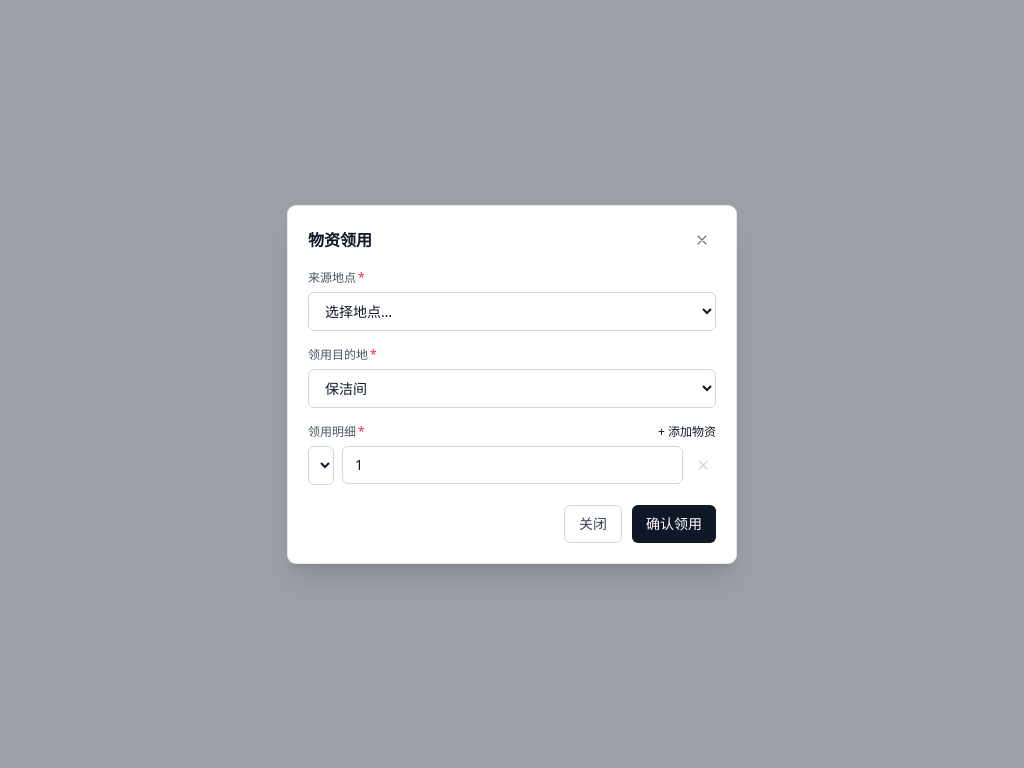
Test: IssueForm 领用表单（Sprint 7 §11/§12/§54） › ROOM 目的地必须选房间（422 由后端最终裁决）
Select "总仓" in the dropdown named "领用来源地点": (512, 311) [308, 292, 716, 330]
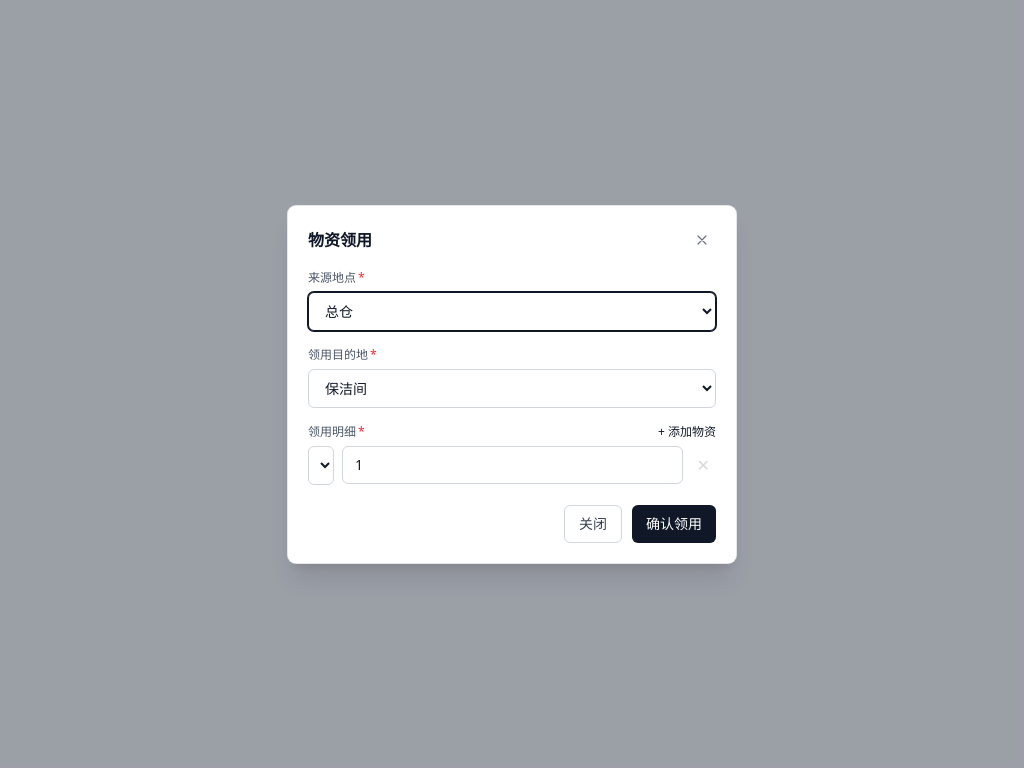
Select "房间" in the dropdown named "领用目的地": (512, 388) [308, 368, 716, 408]
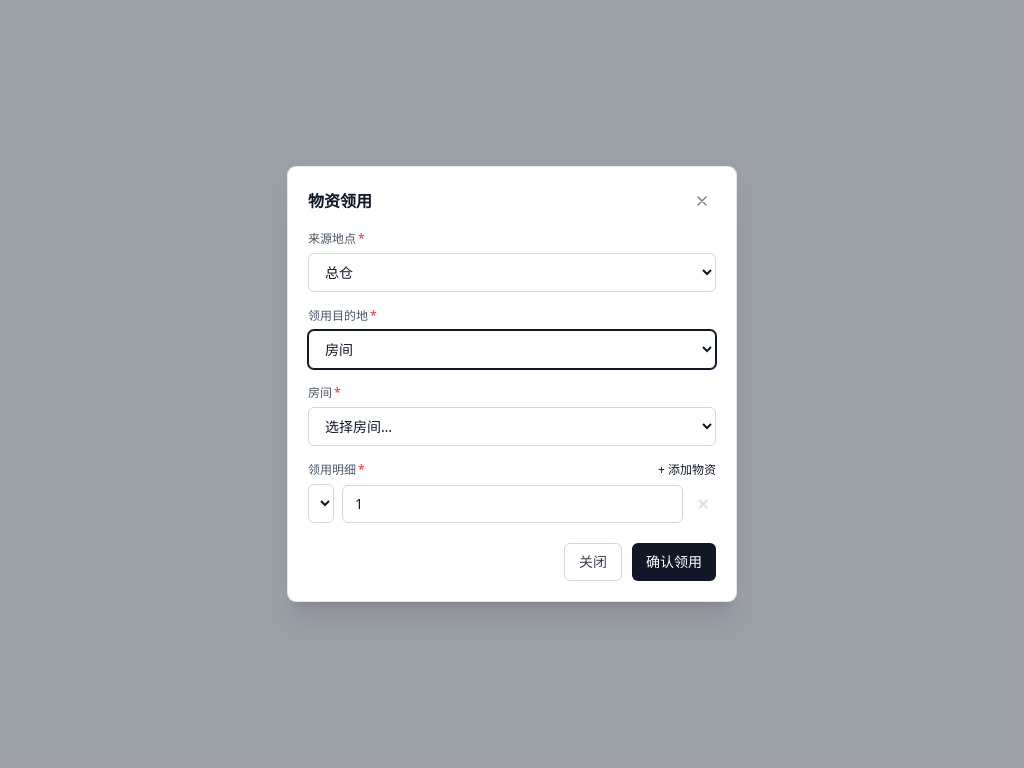
Select "AMEN-WATER-500 · 矿泉水（现 10瓶）" in the dropdown named "领用物资": (321, 504) [308, 484, 334, 523]
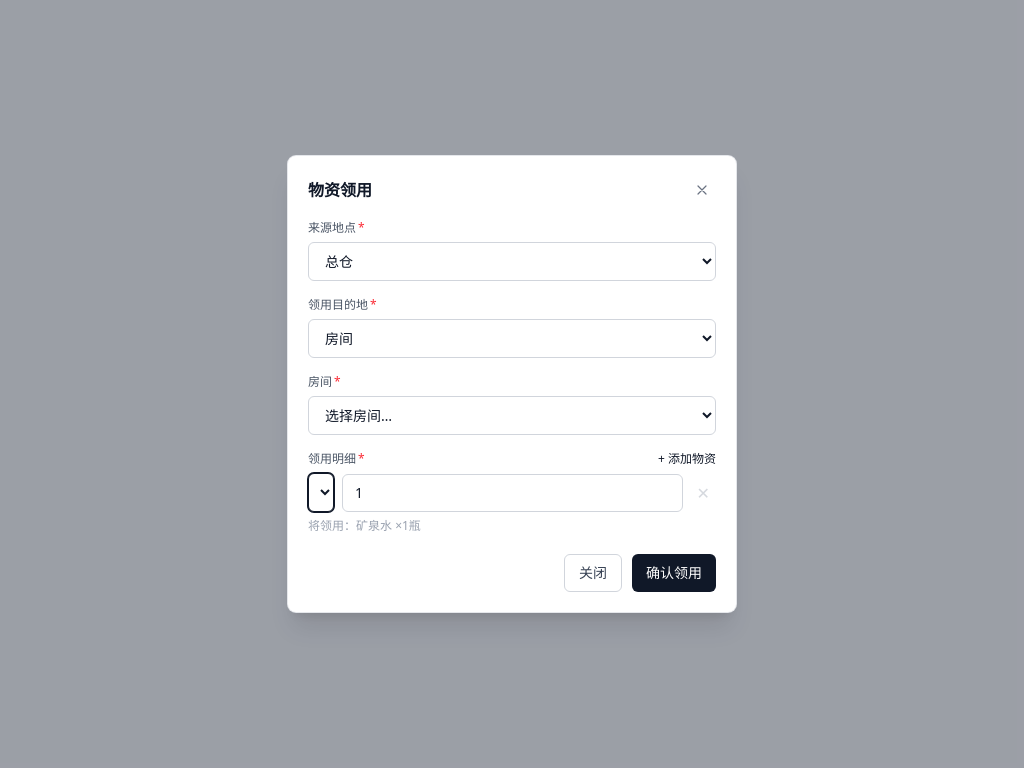
Clear the number field named "领用数量": (512, 492) [342, 474, 683, 512]
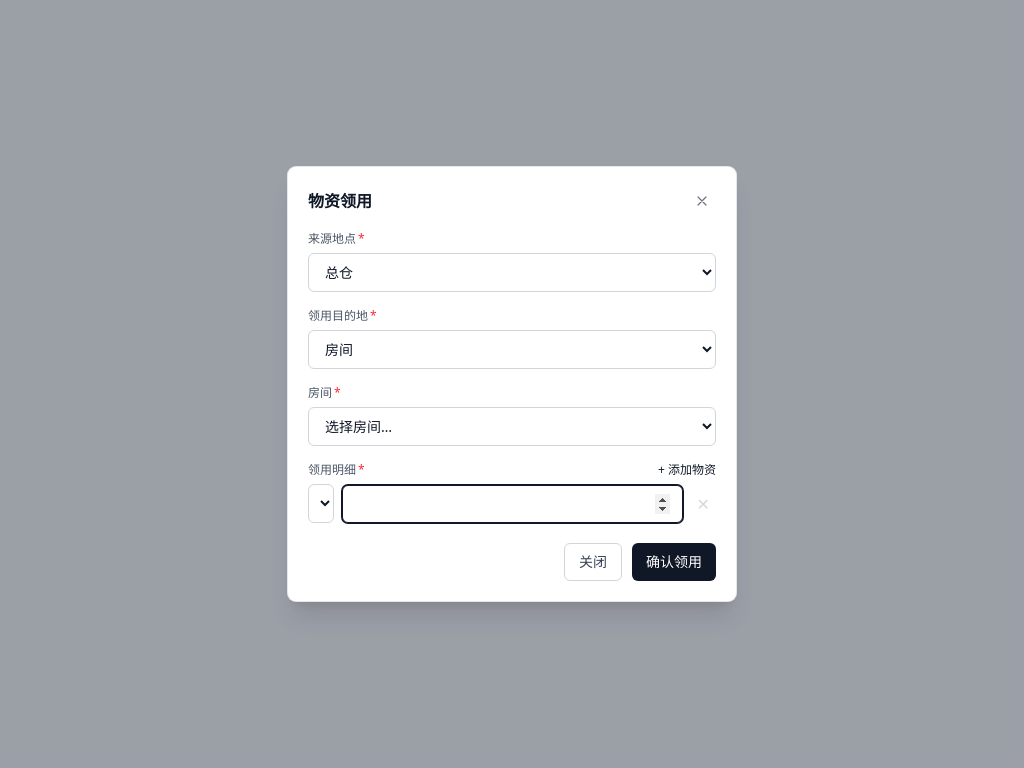
In the number field named "领用数量": (512, 504) [342, 484, 683, 522], type "3"
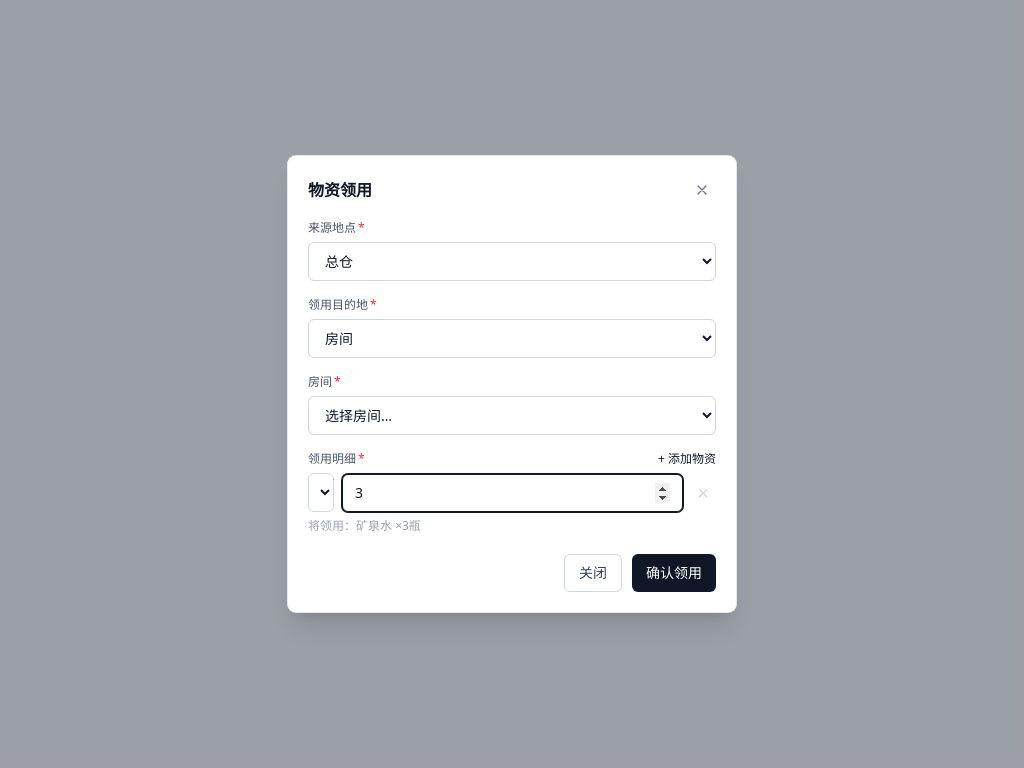
Click the button "确认领用": (674, 573) [632, 554, 716, 592]
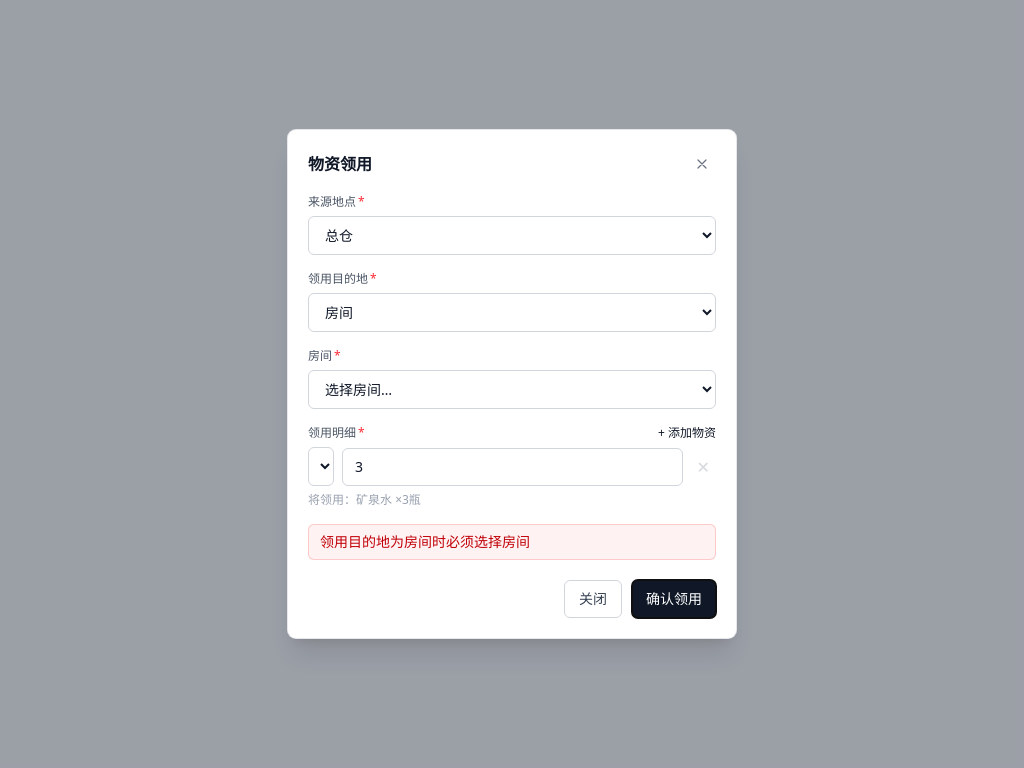
Expected: the message reads "领用目的地为房间时必须选择房间", [320, 532, 530, 551]
